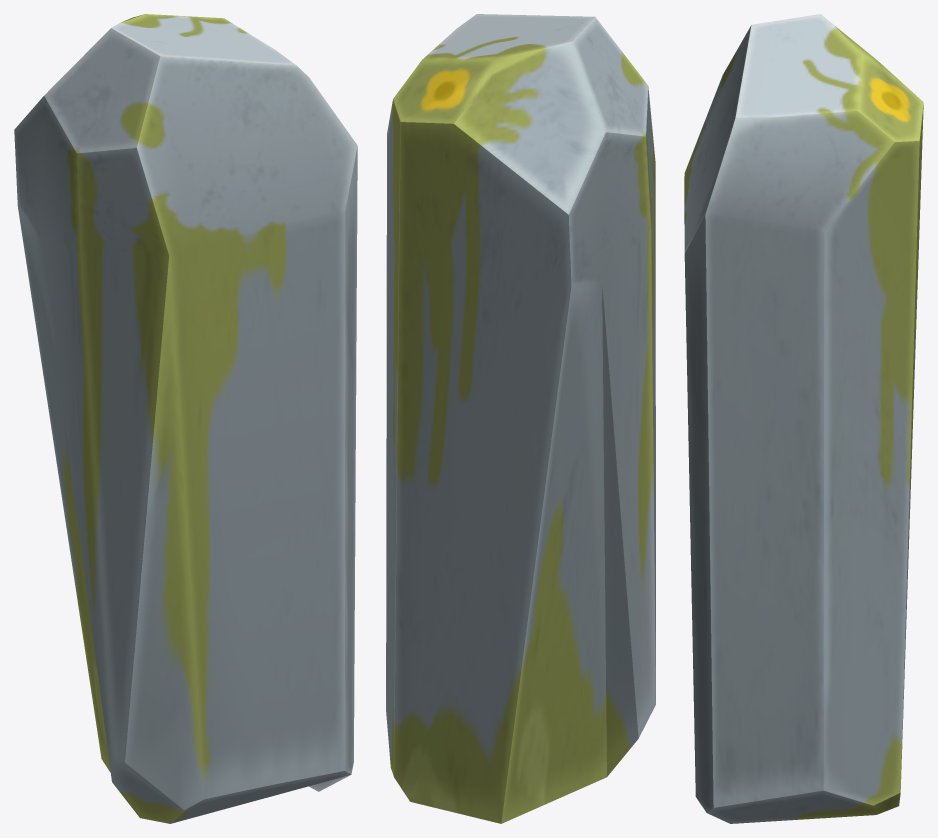
Rendered from TallStone_1.fbx.
3 renders of one model, left to right at view 1: azimuth 30°, elevation 25°; view 2: azimuth 150°, elevation 25°; view 3: azimuth 270°, elevation 25°, orthographic. The views are drawn at different scales.
Visible parts, largest first — view 1: TallStone_1; view 2: TallStone_1; view 3: TallStone_1.
Part boxes in pixels (box(x1,y1,x2,y2)): TallStone_1: box(14, 14, 357, 823); TallStone_1: box(386, 14, 655, 823); TallStone_1: box(684, 14, 923, 823).
Size of the model in its own units: 1.02 by 3.09 by 0.911.
